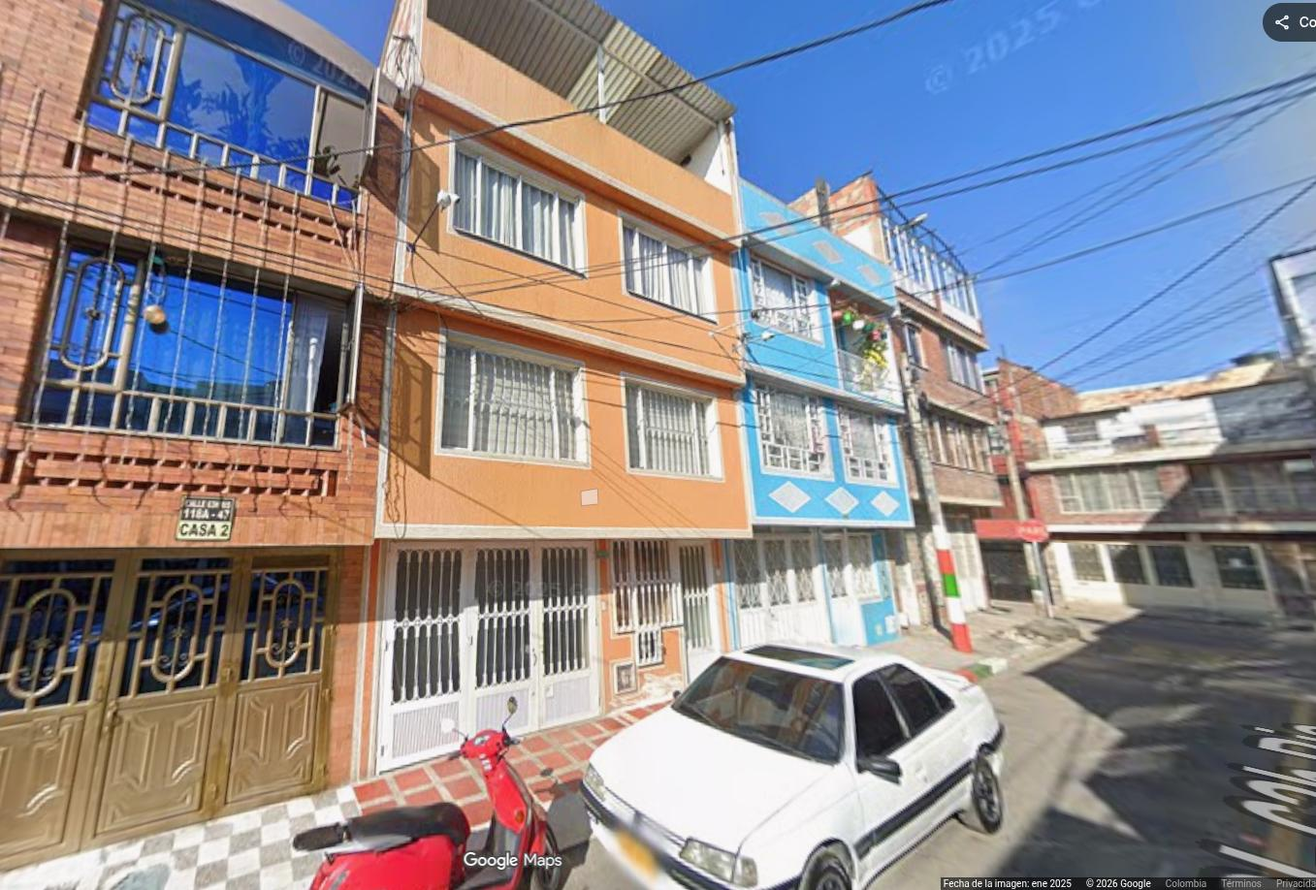casa: (0, 0, 401, 866), (372, 0, 751, 771), (730, 178, 912, 642), (1025, 357, 1315, 623), (830, 171, 1002, 610)
poste: (900, 357, 973, 652), (998, 406, 1028, 525), (1024, 538, 1053, 618)
